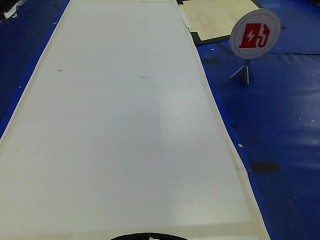battery: (227, 11, 282, 60)
